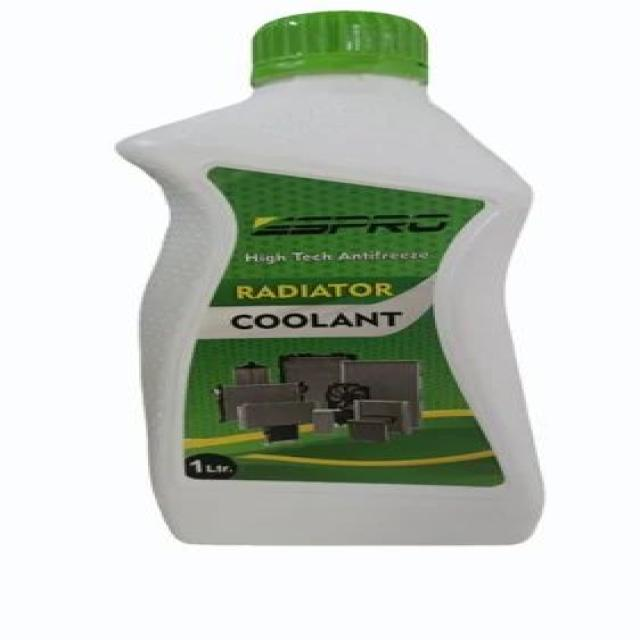coolant: (114, 9, 543, 546)
